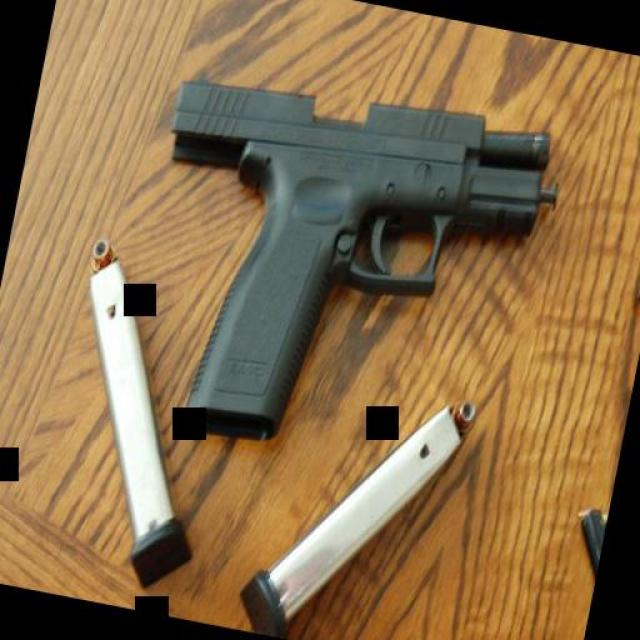gun: (107, 55, 574, 500)
